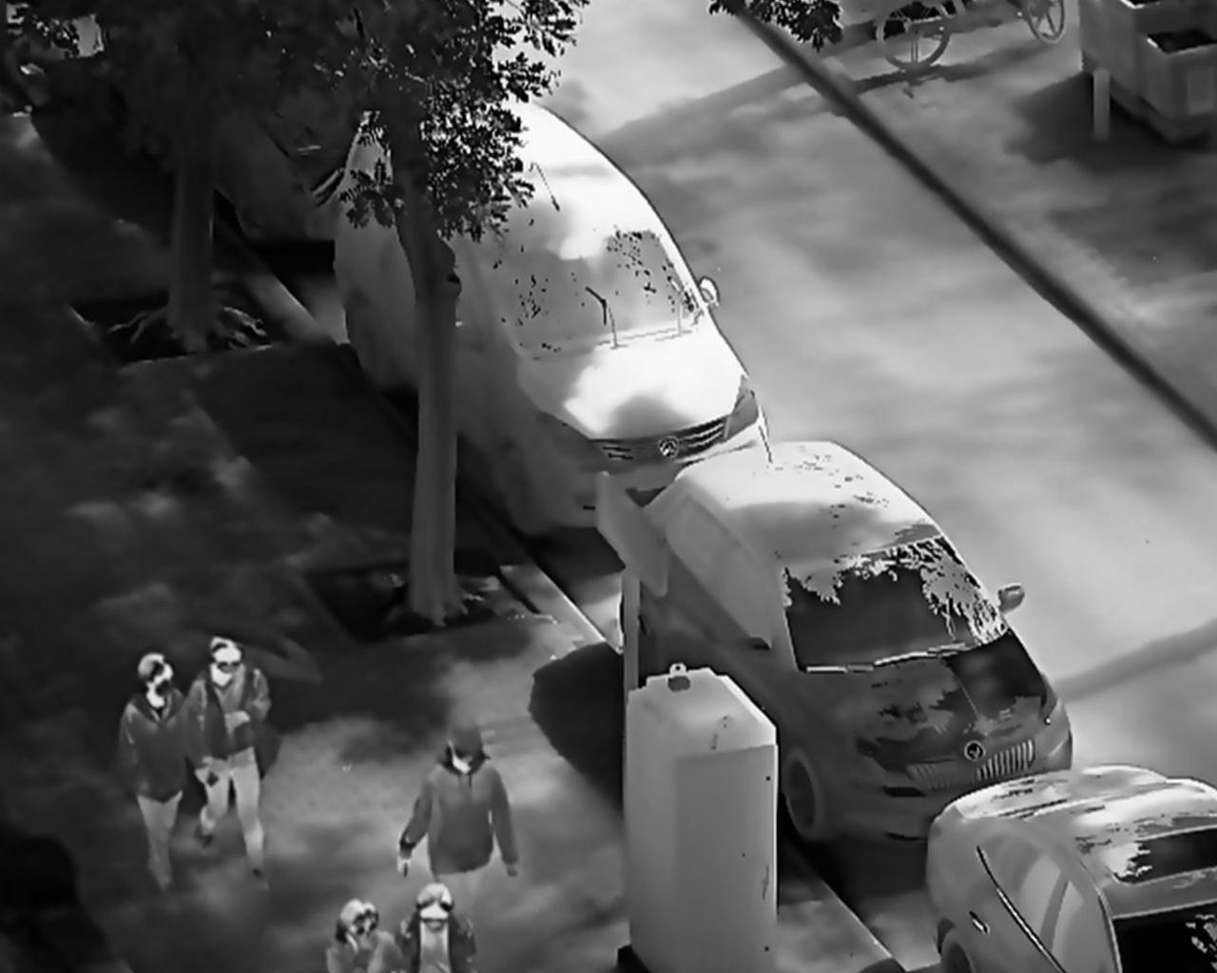person: (179, 632, 282, 892), (396, 718, 524, 926), (109, 650, 208, 907)
